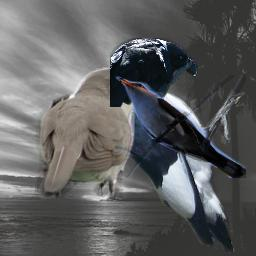Crow: (110, 38, 198, 107)
Cuckoo: (35, 67, 157, 201), (115, 75, 246, 178)
Woodpecker: (100, 58, 249, 252)
